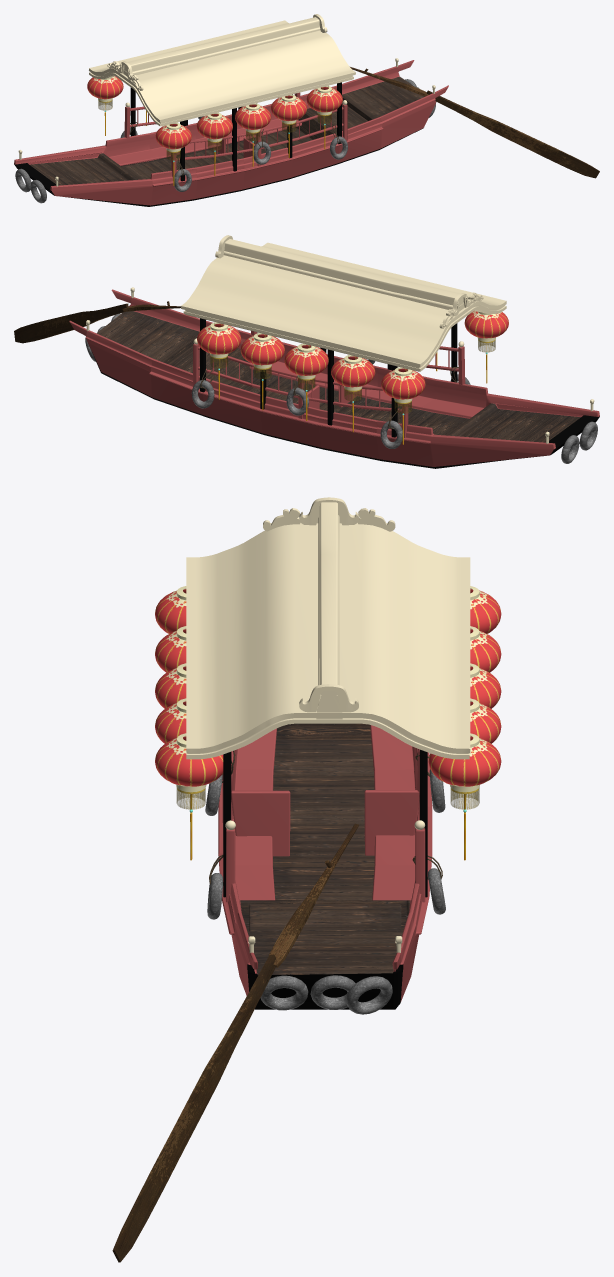
3 renders of one model, top to bottom at view 1: azimuth 30°, elevation 25°; view 2: azimuth 150°, elevation 25°; view 3: azimuth 270°, elevation 25°, orthographic. The views are drawn at different scales.
Parts seen in each view (by area): view 1: ShuttleBoat.Shape, ChinaSilkLantern_dup_5.Shape, ChinaSilkLantern.Shape, ChinaSilkLantern_dup_2.Shape, ChinaSilkLantern_dup_3.Shape, ChinaSilkLantern_dup_4.Shape, ChinaSilkLantern_dup_6.Shape; view 2: ShuttleBoat.Shape, ChinaSilkLantern_dup_8.Shape, ChinaSilkLantern_dup_7.Shape, ChinaSilkLantern_dup_9.Shape, ChinaSilkLantern_dup_6.Shape, ChinaSilkLantern_dup_10.Shape, ChinaSilkLantern.Shape; view 3: ShuttleBoat.Shape, ChinaSilkLantern_dup_10.Shape, ChinaSilkLantern_dup_5.Shape, ChinaSilkLantern.Shape, ChinaSilkLantern_dup_6.Shape, ChinaSilkLantern_dup_2.Shape, ChinaSilkLantern_dup_4.Shape, ChinaSilkLantern_dup_7.Shape, ChinaSilkLantern_dup_9.Shape, ChinaSilkLantern_dup_3.Shape, ChinaSilkLantern_dup_8.Shape.
Boxes of the visible parts, x1,y1,x2,y2 form: ShuttleBoat.Shape: (14, 14, 599, 206); ChinaSilkLantern_dup_5.Shape: (306, 85, 342, 149); ChinaSilkLantern.Shape: (155, 122, 191, 185); ChinaSilkLantern_dup_2.Shape: (196, 112, 232, 175); ChinaSilkLantern_dup_3.Shape: (235, 103, 271, 166); ChinaSilkLantern_dup_4.Shape: (271, 94, 307, 157); ChinaSilkLantern_dup_6.Shape: (87, 76, 123, 135); ShuttleBoat.Shape: (14, 235, 599, 468); ChinaSilkLantern_dup_8.Shape: (284, 343, 328, 420); ChinaSilkLantern_dup_7.Shape: (331, 355, 375, 432); ChinaSilkLantern_dup_9.Shape: (240, 332, 284, 410); ChinaSilkLantern_dup_6.Shape: (381, 367, 425, 444); ChinaSilkLantern_dup_10.Shape: (197, 322, 241, 399); ChinaSilkLantern.Shape: (464, 310, 508, 383); ShuttleBoat.Shape: (112, 497, 470, 1262); ChinaSilkLantern_dup_10.Shape: (428, 733, 501, 860); ChinaSilkLantern_dup_5.Shape: (155, 733, 223, 860); ChinaSilkLantern.Shape: (155, 586, 186, 633); ChinaSilkLantern_dup_6.Shape: (470, 586, 501, 633); ChinaSilkLantern_dup_2.Shape: (155, 626, 186, 672); ChinaSilkLantern_dup_4.Shape: (155, 698, 192, 812); ChinaSilkLantern_dup_7.Shape: (470, 626, 501, 672); ChinaSilkLantern_dup_9.Shape: (464, 698, 501, 812); ChinaSilkLantern_dup_3.Shape: (155, 663, 186, 708); ChinaSilkLantern_dup_8.Shape: (470, 663, 501, 708).
Size of the model in its own units: 8.99 by 2.96 by 2.91.
Materials: 78 (44 with a texture image).
